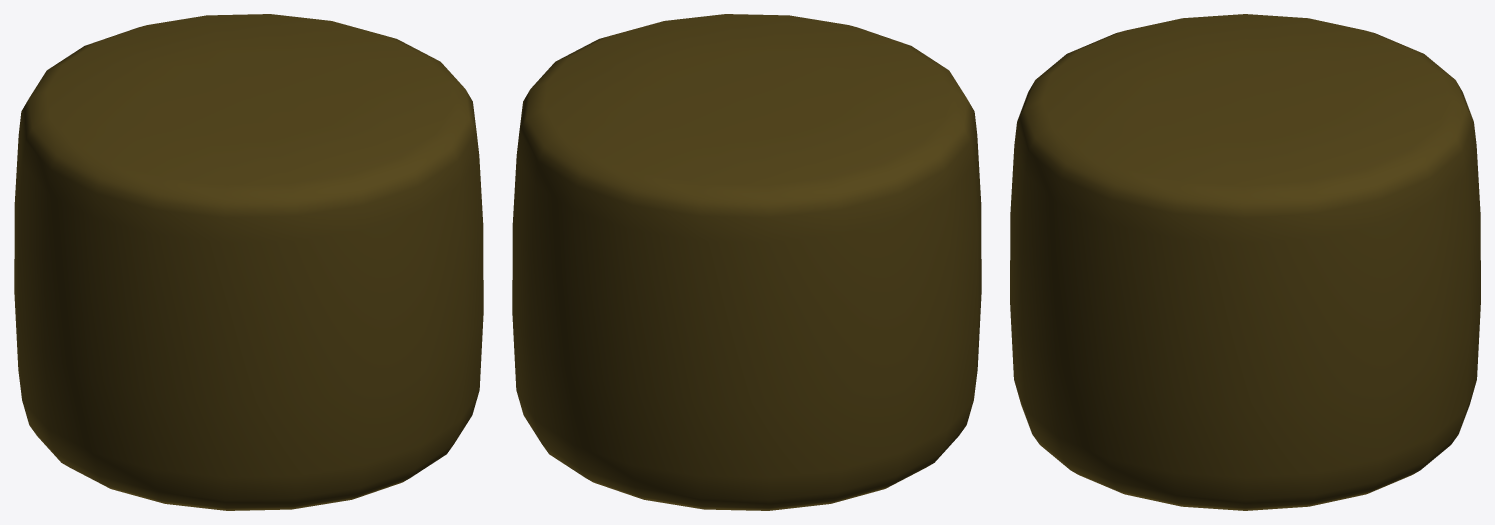
The picture shows the model from 3 angles, left to right: view 1: azimuth 30°, elevation 25°; view 2: azimuth 150°, elevation 25°; view 3: azimuth 270°, elevation 25°; orthographic projection.
Size of the model in its own units: 5.97 by 4.6 by 5.97.
Materials: 1 (1 with a texture image).
